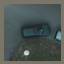car: (18, 21, 50, 39)
